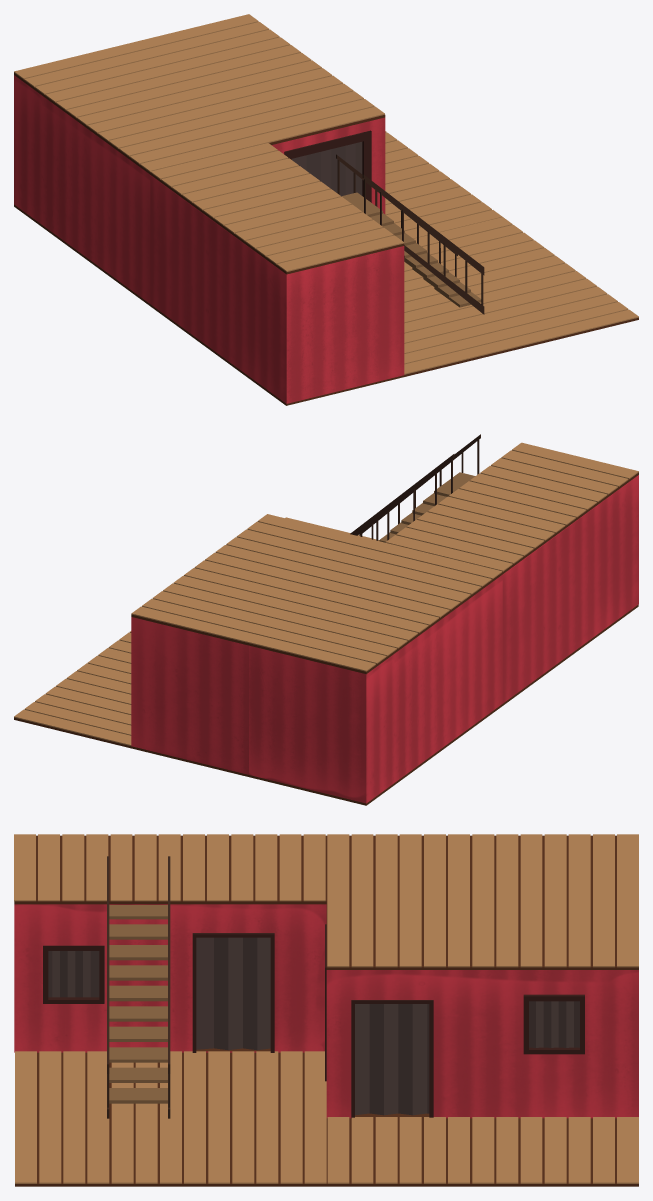
Rendered from Container 1.fbx.
The picture shows the model from 3 angles, top to bottom: view 1: azimuth 30°, elevation 25°; view 2: azimuth 150°, elevation 25°; view 3: azimuth 270°, elevation 25°; orthographic projection. The views are drawn at different scales.
Parts seen in each view (by area): view 1: Vloer; view 2: Vloer; view 3: Vloer.
Part boxes in pixels (x1,y1,x2,y2): Vloer: (14,14,638,405); Vloer: (14,434,638,805); Vloer: (14,834,638,1186).
Bounding box in the file's own units: 1439 × 676 × 1927.
